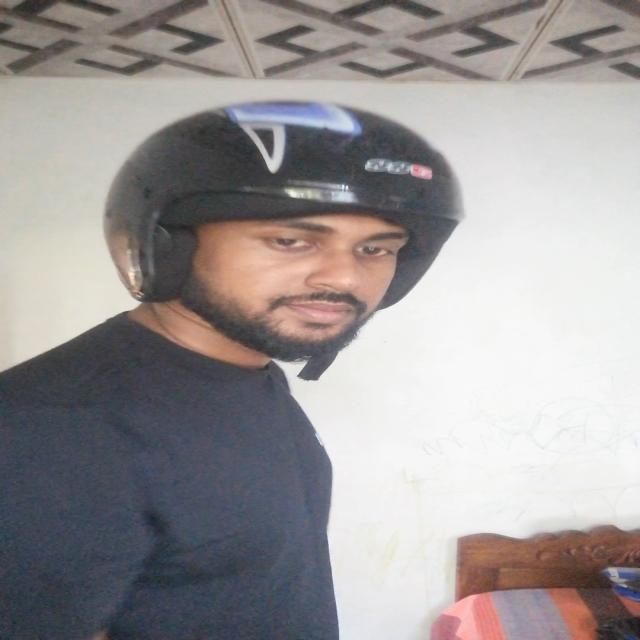Helmet_Wearer: (79, 91, 474, 396)
Person: (0, 83, 458, 640)
